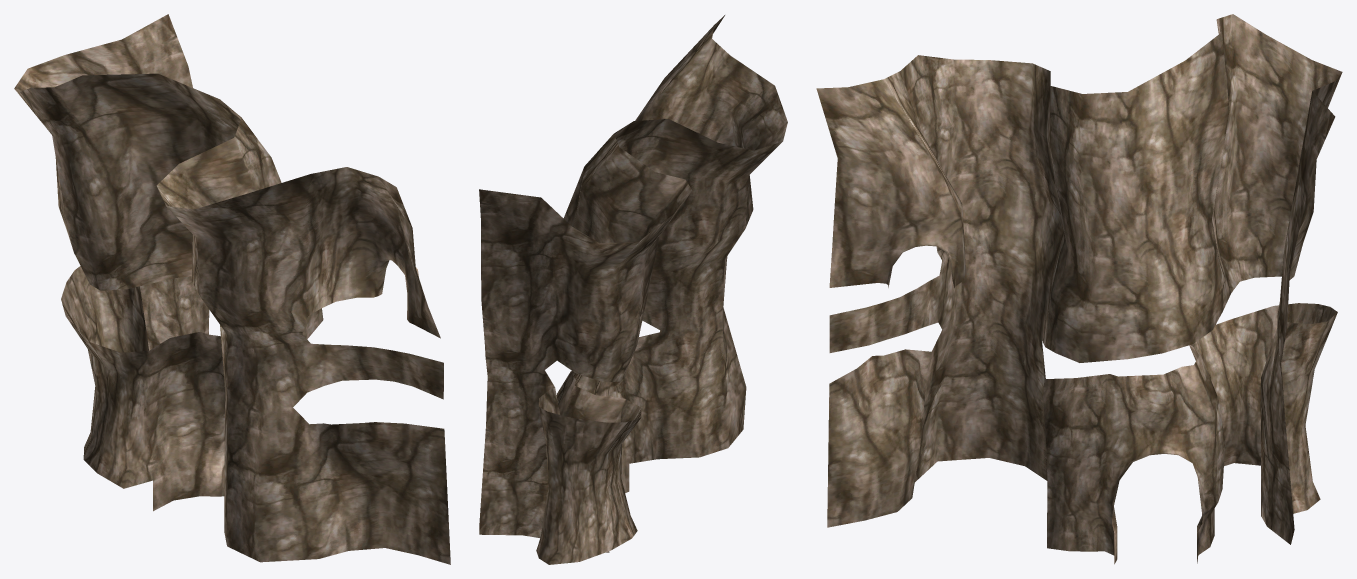
Rendered from EKH_GROTTO_PS_GR_OBJECT15.fbx.
The picture shows the model from 3 angles, left to right: view 1: azimuth 30°, elevation 25°; view 2: azimuth 150°, elevation 25°; view 3: azimuth 270°, elevation 25°; orthographic projection. The views are drawn at different scales.
Visible parts, largest first — view 1: EKH_GROTTO_PS_GR_OBJECT15; view 2: EKH_GROTTO_PS_GR_OBJECT15; view 3: EKH_GROTTO_PS_GR_OBJECT15.
Part boxes in pixels (bbox=[...]): EKH_GROTTO_PS_GR_OBJECT15: bbox=[14, 14, 450, 564]; EKH_GROTTO_PS_GR_OBJECT15: bbox=[479, 15, 787, 564]; EKH_GROTTO_PS_GR_OBJECT15: bbox=[816, 14, 1342, 564].
Size of the model in its own units: 79571 by 150033 by 154654.
1 material, 1 textured.
